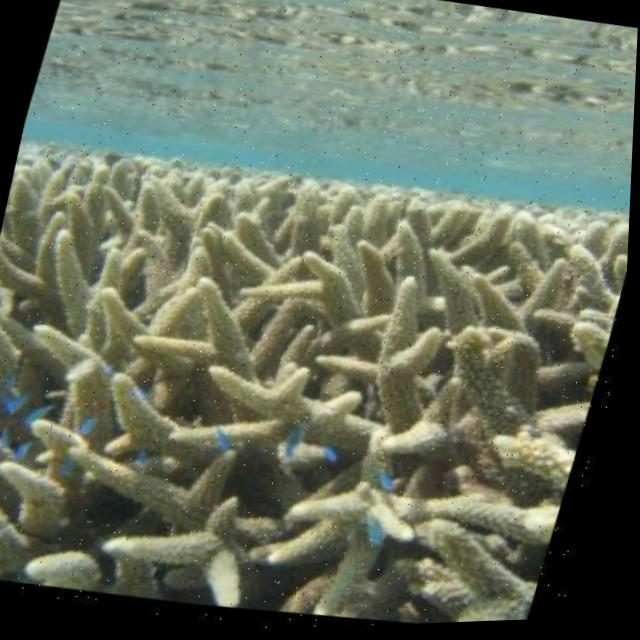Bleached Coral: (0, 88, 636, 640)
